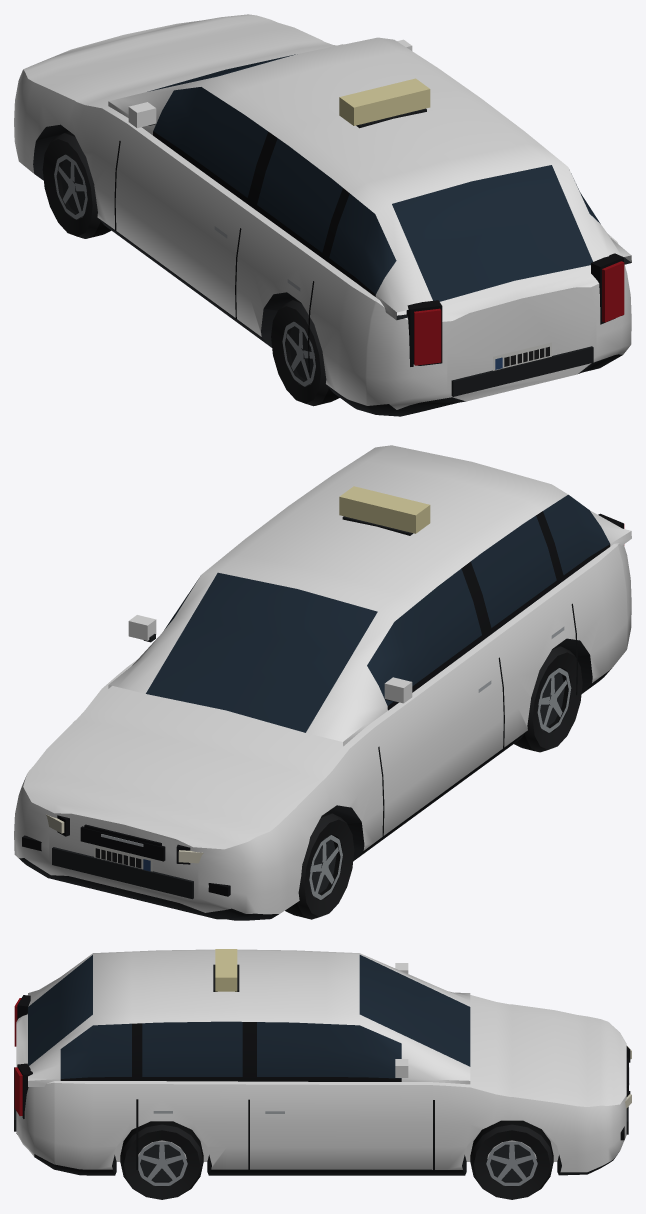
The model's file is taxi_drive.glb.
3 renders of one model, top to bottom at view 1: azimuth 30°, elevation 25°; view 2: azimuth 150°, elevation 25°; view 3: azimuth 270°, elevation 25°, orthographic. The views are drawn at different scales.
Parts seen in each view (by area): view 1: taxi, wheel_fl, wheel_rl, tail; view 2: taxi, wheel_fl, wheel_rl; view 3: taxi, wheel_fr, wheel_rr, tail.
Boxes of the visible parts, x1=… form: taxi: x1=14, y1=14, x2=631, y2=416; wheel_fl: x1=42, y1=131, x2=111, y2=238; wheel_rl: x1=271, y1=299, x2=339, y2=406; tail: x1=414, y1=261, x2=624, y2=365; taxi: x1=14, y1=445, x2=631, y2=920; wheel_fl: x1=285, y1=812, x2=354, y2=919; wheel_rl: x1=514, y1=645, x2=582, y2=752; taxi: x1=14, y1=949, x2=630, y2=1175; wheel_fr: x1=470, y1=1120, x2=553, y2=1199; wheel_rr: x1=120, y1=1121, x2=203, y2=1199; tail: x1=14, y1=998, x2=22, y2=1115.
Size of the model in its own units: 1.87 by 1.61 by 4.75.
